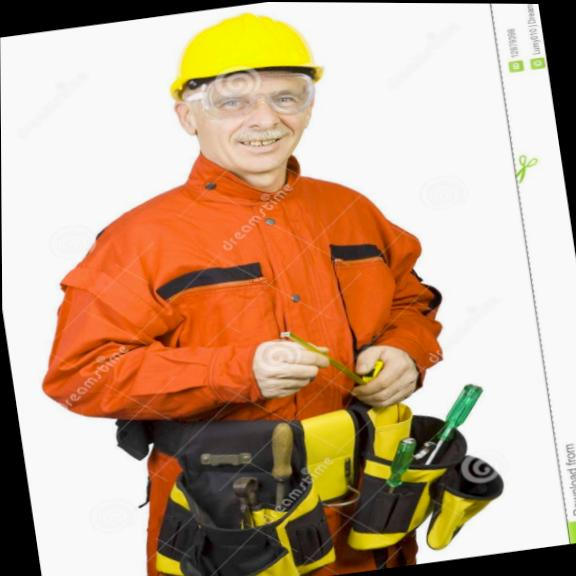no_safety_vest: (10, 136, 464, 495)
